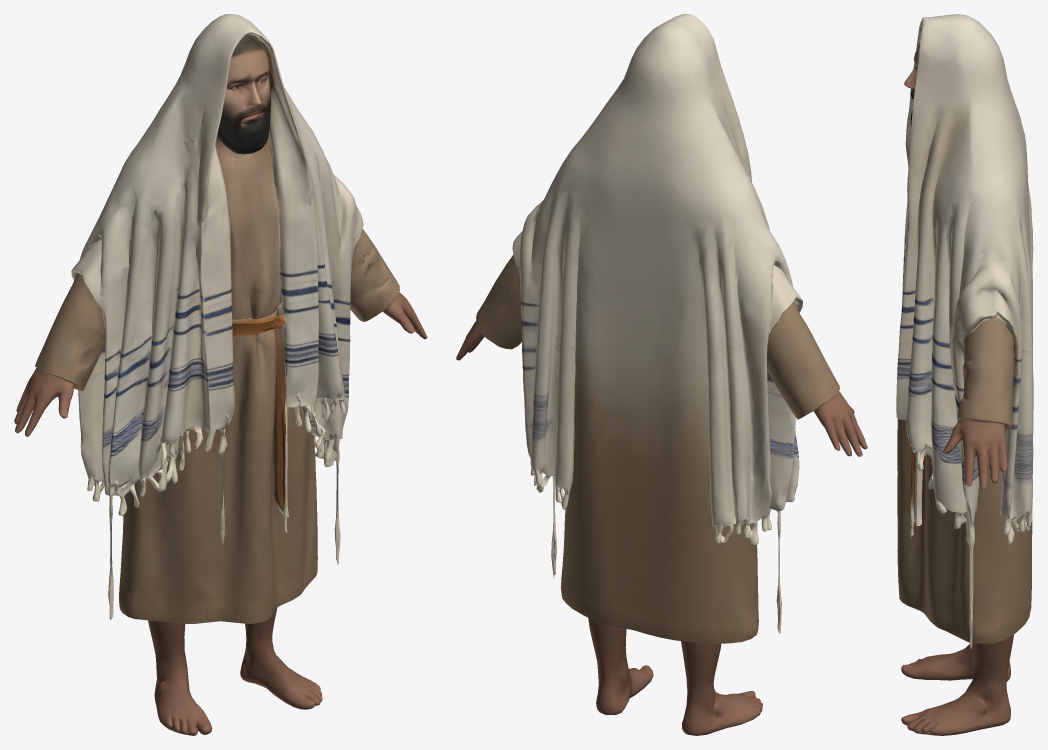
The model's file is israelite_talith_3.glb.
3 views of the same model, side by side, from view 1: azimuth 30°, elevation 25°; view 2: azimuth 150°, elevation 25°; view 3: azimuth 270°, elevation 25° (orthographic).
Parts seen in each view (by area): view 1: Mesh; view 2: Mesh; view 3: Mesh.
Boxes of the visible parts, box(x1,y1,x2,y2) form: Mesh: box(14, 14, 427, 735); Mesh: box(456, 14, 867, 735); Mesh: box(896, 14, 1033, 735).
Bounding box in the file's own units: 1.17 × 1.89 × 0.3449.
1 material, 1 textured.
